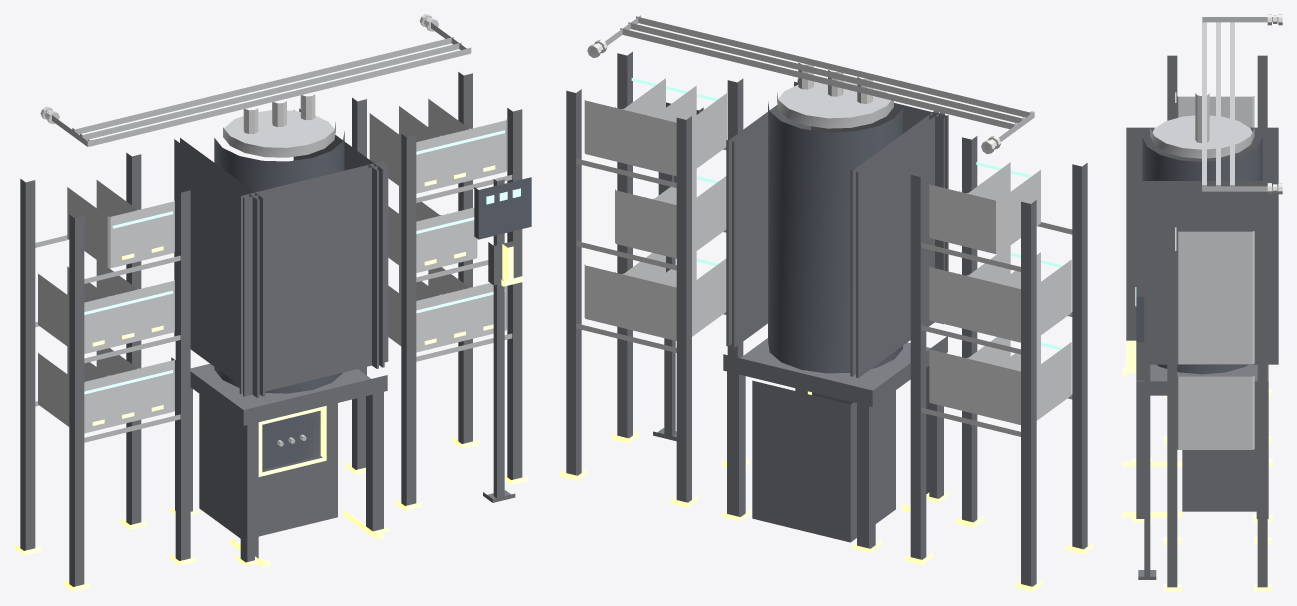
The model's file is iter_03.glb.
3 views of the same model, side by side, from view 1: azimuth 30°, elevation 25°; view 2: azimuth 150°, elevation 25°; view 3: azimuth 270°, elevation 25° (orthographic). The views are drawn at different scales.
Visible parts, largest first — view 1: Radiator_Fins, Rack_Posts_L, Cells_L, Cells_R, Rack_Posts_R, Port_Pod, Overhead_Busbars, Drum_Legs, Drum_Plinth, Transformer_Drum, Drum_Cap, Panel_Post (+9 smaller); view 2: Radiator_Fins, Cells_L, Cells_R, Rack_Posts_L, Transformer_Drum, Port_Pod, Rack_Posts_R, Overhead_Busbars, Drum_Legs, Drum_Plinth, Drum_Cap, Tier_Rails_L (+2 smaller); view 3: Cells_R, Radiator_Fins, Rack_Posts_R, Port_Pod, Transformer_Drum, Overhead_Busbars, Drum_Cap, Panel_Post, Drum_Legs, Rack_Posts_L, Drum_Plinth, Cells_L (+8 smaller).
Boxes of the visible parts, x1,y1,x2,y2 form: Radiator_Fins: [174, 108, 388, 397]; Rack_Posts_L: [20, 152, 190, 586]; Cells_L: [38, 180, 174, 433]; Cells_R: [369, 99, 506, 352]; Rack_Posts_R: [352, 72, 522, 505]; Port_Pod: [199, 394, 337, 538]; Overhead_Busbars: [46, 18, 471, 146]; Drum_Legs: [175, 376, 383, 562]; Drum_Plinth: [171, 357, 387, 425]; Transformer_Drum: [214, 131, 344, 393]; Drum_Cap: [223, 110, 335, 157]; Panel_Post: [483, 179, 515, 502]; Radiator_Fins: [726, 79, 948, 378]; Cells_L: [929, 162, 1071, 424]; Cells_R: [584, 78, 726, 340]; Rack_Posts_L: [910, 136, 1087, 586]; Transformer_Drum: [768, 102, 902, 373]; Port_Pod: [752, 380, 895, 542]; Rack_Posts_R: [566, 51, 743, 502]; Overhead_Busbars: [590, 15, 1034, 150]; Drum_Legs: [727, 366, 943, 548]; Drum_Plinth: [723, 336, 947, 406]; Drum_Cap: [777, 81, 893, 128]; Tier_Rails_L: [921, 222, 1072, 436]; Cells_R: [1176, 231, 1254, 449]; Radiator_Fins: [1126, 127, 1278, 364]; Rack_Posts_R: [1167, 203, 1267, 587]; Port_Pod: [1182, 395, 1256, 511]; Transformer_Drum: [1142, 137, 1262, 374]; Overhead_Busbars: [1202, 17, 1278, 191]; Drum_Cap: [1150, 115, 1254, 158]; Panel_Post: [1138, 286, 1156, 579]; Drum_Legs: [1136, 395, 1268, 518]; Rack_Posts_L: [1167, 55, 1267, 127]; Drum_Plinth: [1136, 364, 1268, 395]; Cells_L: [1176, 96, 1254, 127].
Bounding box in the file's own units: 2.4 × 2.16 × 0.8.
